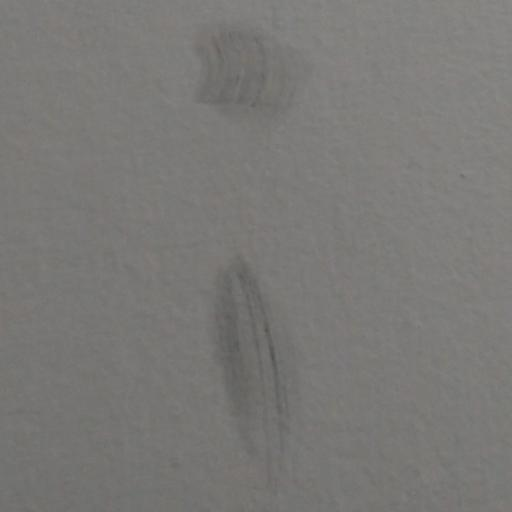stain: (180, 247, 341, 477), (171, 13, 366, 149)
